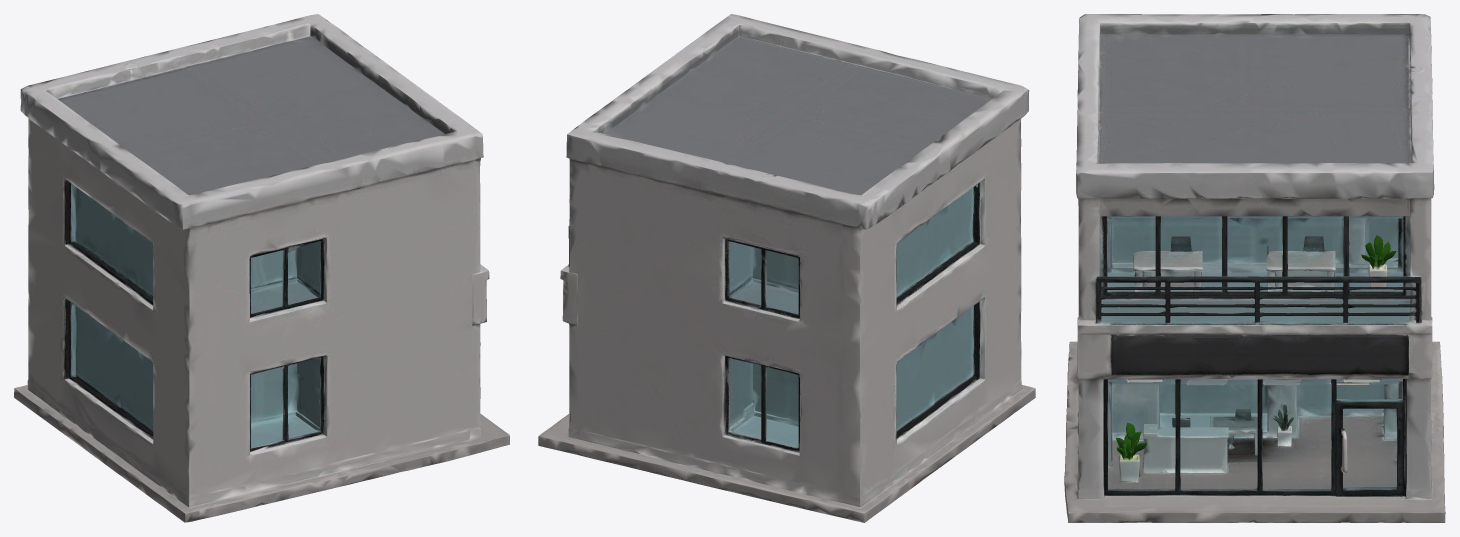
Rendered from escritorio-sobrado.glb.
The picture shows the model from 3 angles, left to right: view 1: azimuth 30°, elevation 25°; view 2: azimuth 150°, elevation 25°; view 3: azimuth 270°, elevation 25°; orthographic projection. The views are drawn at different scales.
Visible parts, largest first — view 1: tripo_node_f527f0a5-b5cf-4f19-b52f-c12c8999973c; view 2: tripo_node_f527f0a5-b5cf-4f19-b52f-c12c8999973c; view 3: tripo_node_f527f0a5-b5cf-4f19-b52f-c12c8999973c.
Boxes of the visible parts, x1=… form: tripo_node_f527f0a5-b5cf-4f19-b52f-c12c8999973c: x1=14, y1=14, x2=509, y2=522; tripo_node_f527f0a5-b5cf-4f19-b52f-c12c8999973c: x1=538, y1=14, x2=1035, y2=522; tripo_node_f527f0a5-b5cf-4f19-b52f-c12c8999973c: x1=1064, y1=14, x2=1445, y2=522.
Size of the model in its own units: 1.08 by 1 by 1.02.
1 material, 1 textured.
